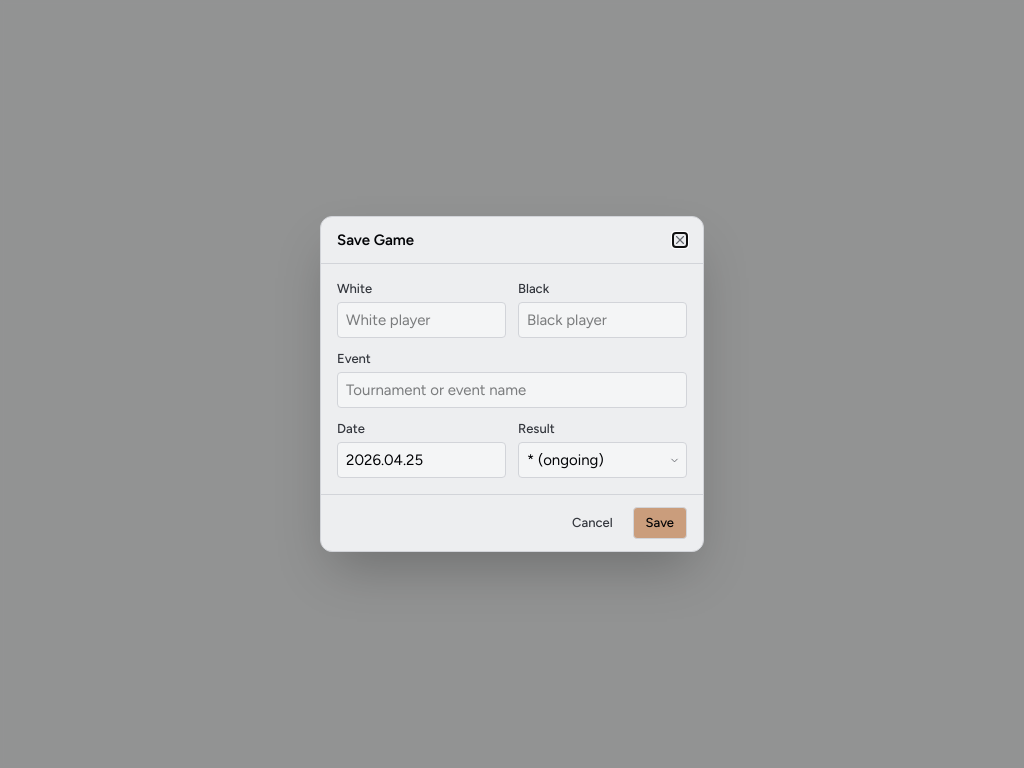
Test case: SaveGameDialog › shows error message when save fails
Click the button "Save". click: {"x": 660, "y": 523}
box: 633,507 -> 687,539
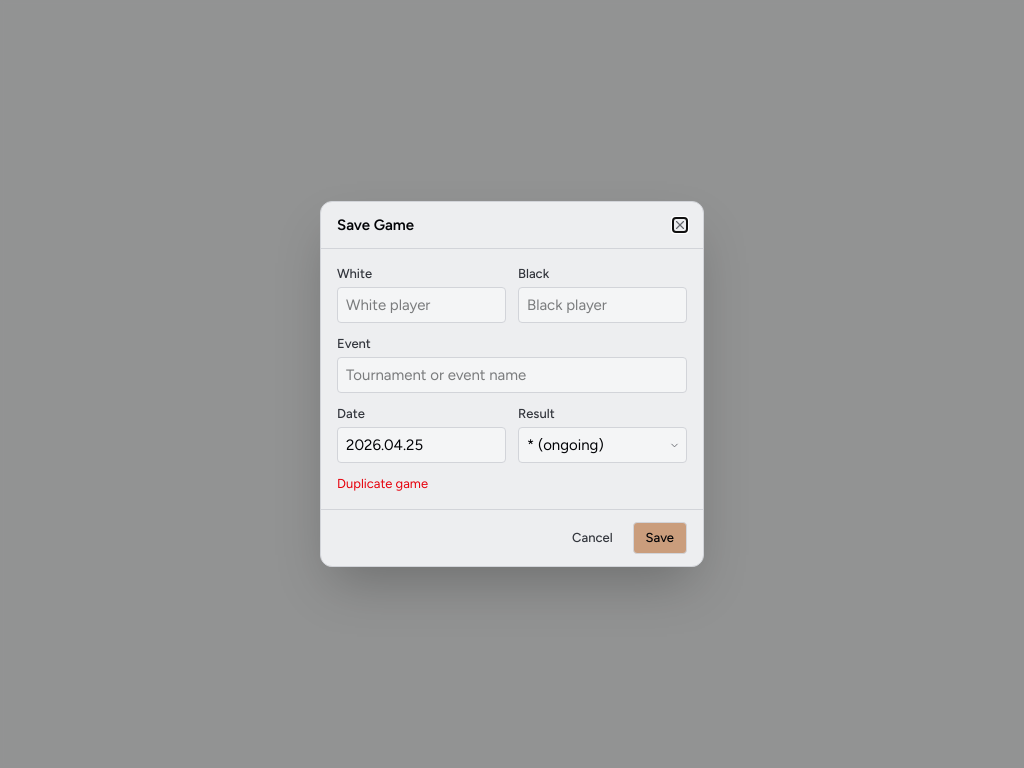
Now the text "Duplicate game" is shown, box 337,476 -> 428,491
